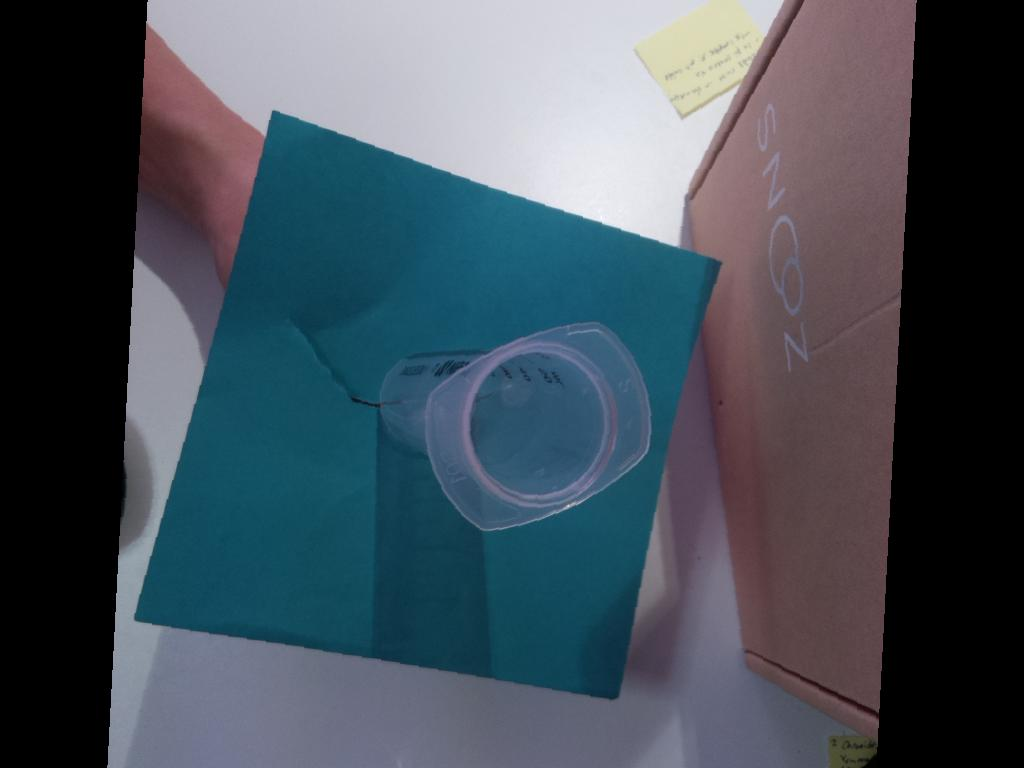clean: (426, 321, 652, 532)
